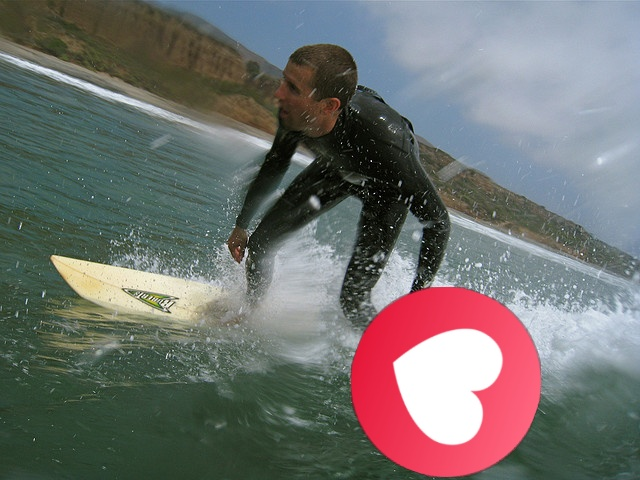love: (351, 287, 541, 477)
